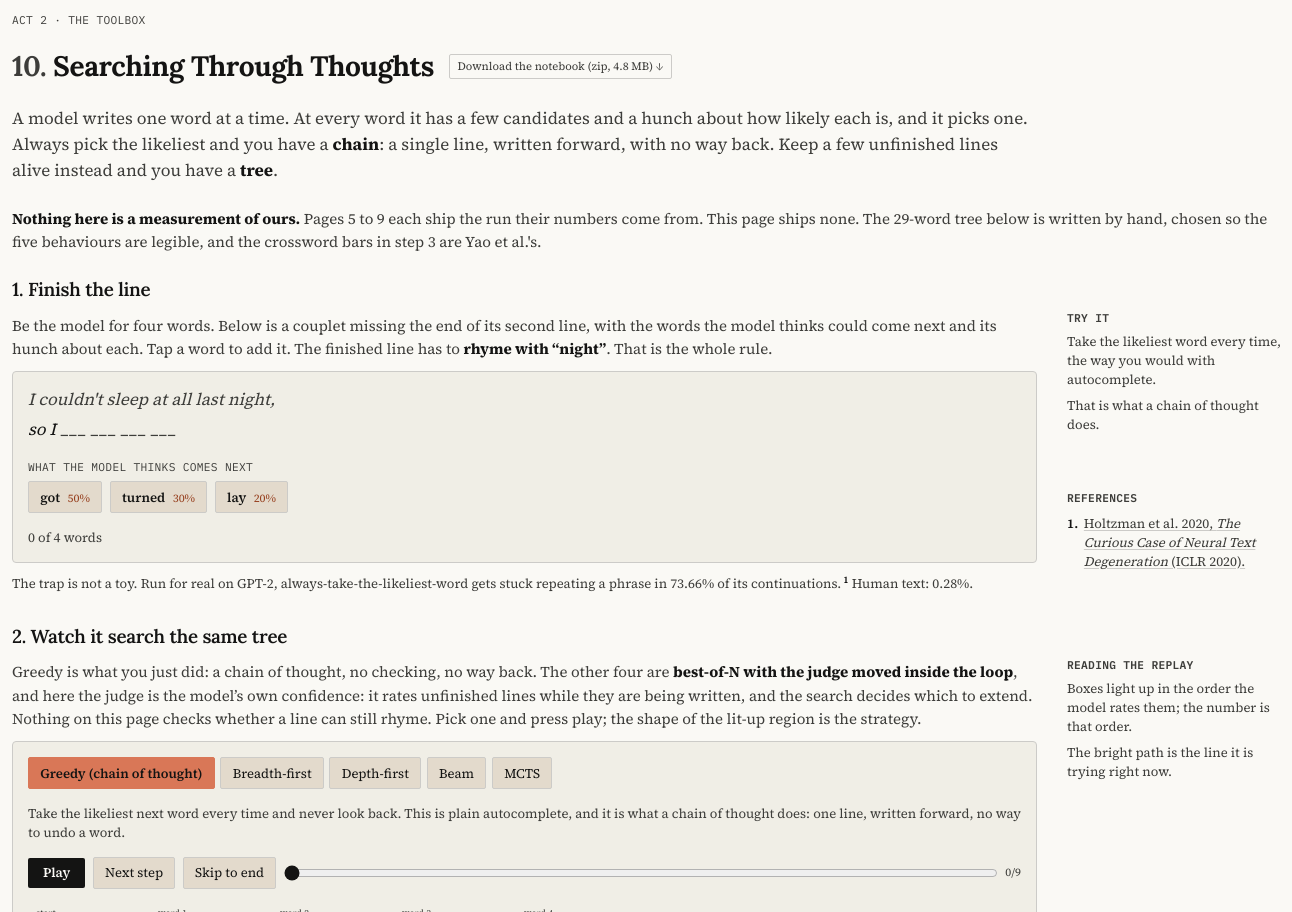
Test: Page 10 — step 1, the reader writes the line › the reader can find the one rhyming line
The image size is (1292, 912).
Click the button "turned 30%" at [158, 497], box [110,481,207,513]
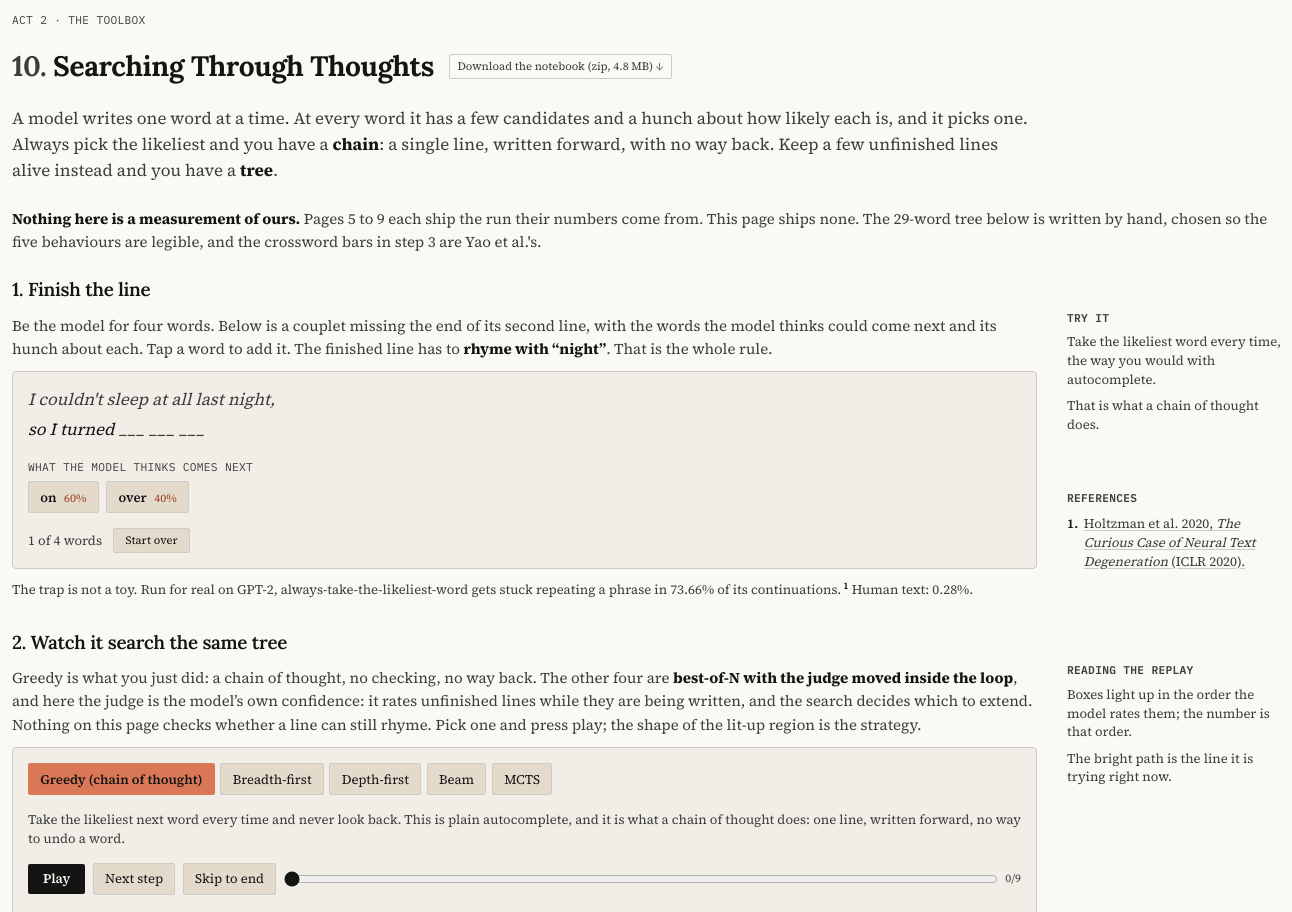
Click the button "on 60%" at [63, 497], box [28,481,99,513]
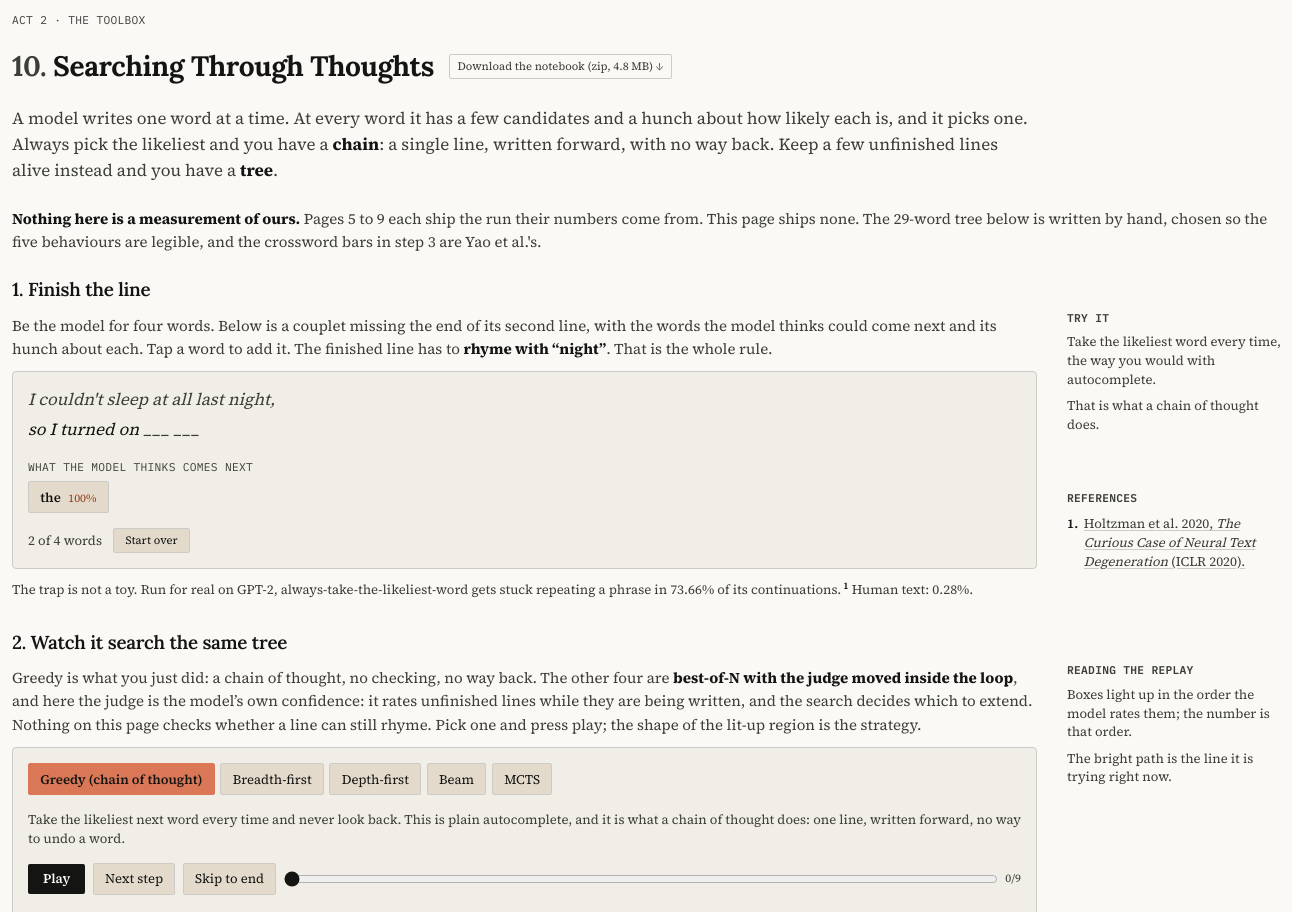
Click the button "the 100%" at [68, 497], box [28,481,109,513]
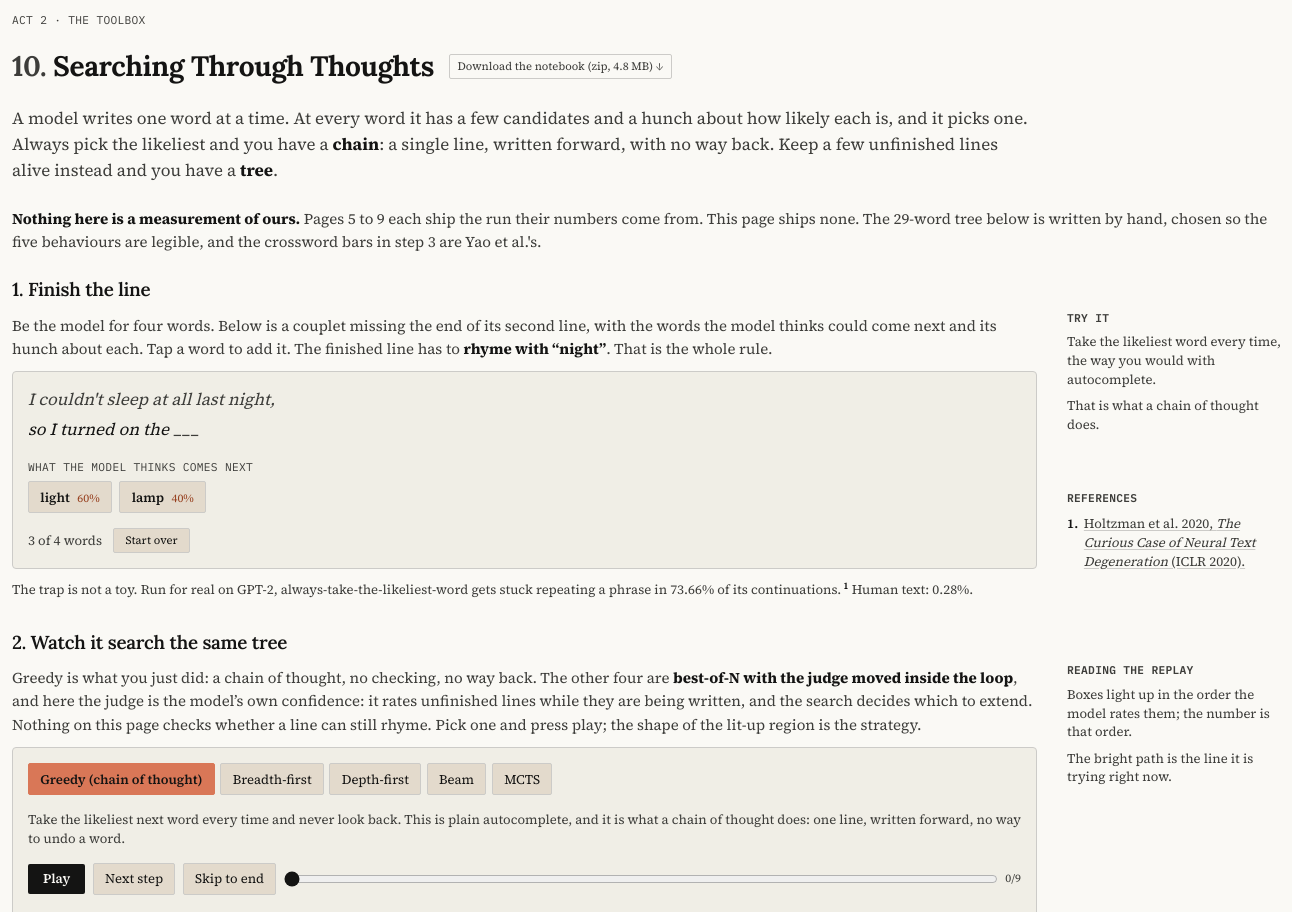
Click the button "light 60%" at [70, 497], box [28,481,112,513]
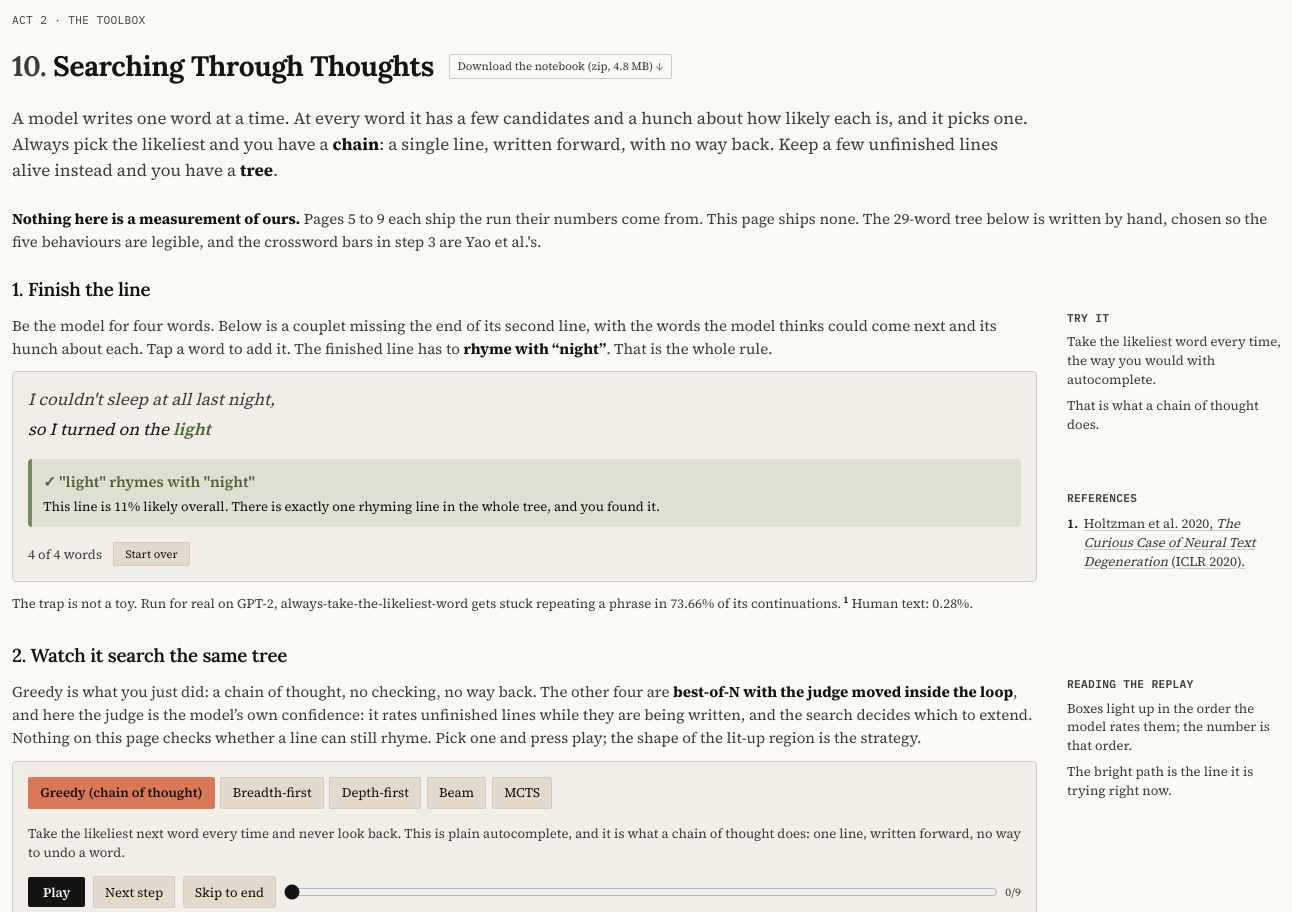
Check: the text "✓ \"light\" rhymes with \"night\"" is shown, box [43,471,255,492]
Check: the text "exactly one rhyming line" is shown, box [232,497,660,515]
